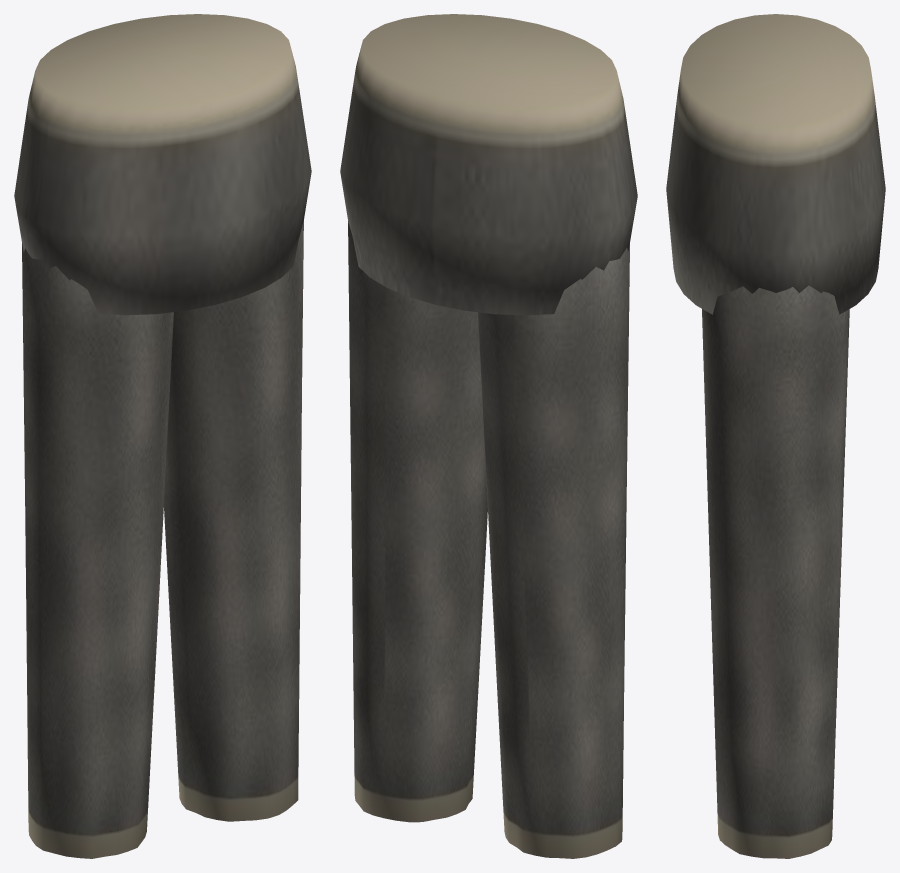
The model's file is ash_pants_legs.glb.
3 views of the same model, side by side, from view 1: azimuth 30°, elevation 25°; view 2: azimuth 150°, elevation 25°; view 3: azimuth 270°, elevation 25° (orthographic). The views are drawn at different scales.
Visible parts, largest first — view 1: ash_pants_legs; view 2: ash_pants_legs; view 3: ash_pants_legs.
Part boxes in pixels (x1,y1,x2,y2): ash_pants_legs: (14, 14, 311, 858); ash_pants_legs: (340, 14, 637, 858); ash_pants_legs: (666, 14, 885, 858).
Bounding box in the file's own units: 0.21 × 0.55 × 0.15.
Materials: 1 (1 with a texture image).
